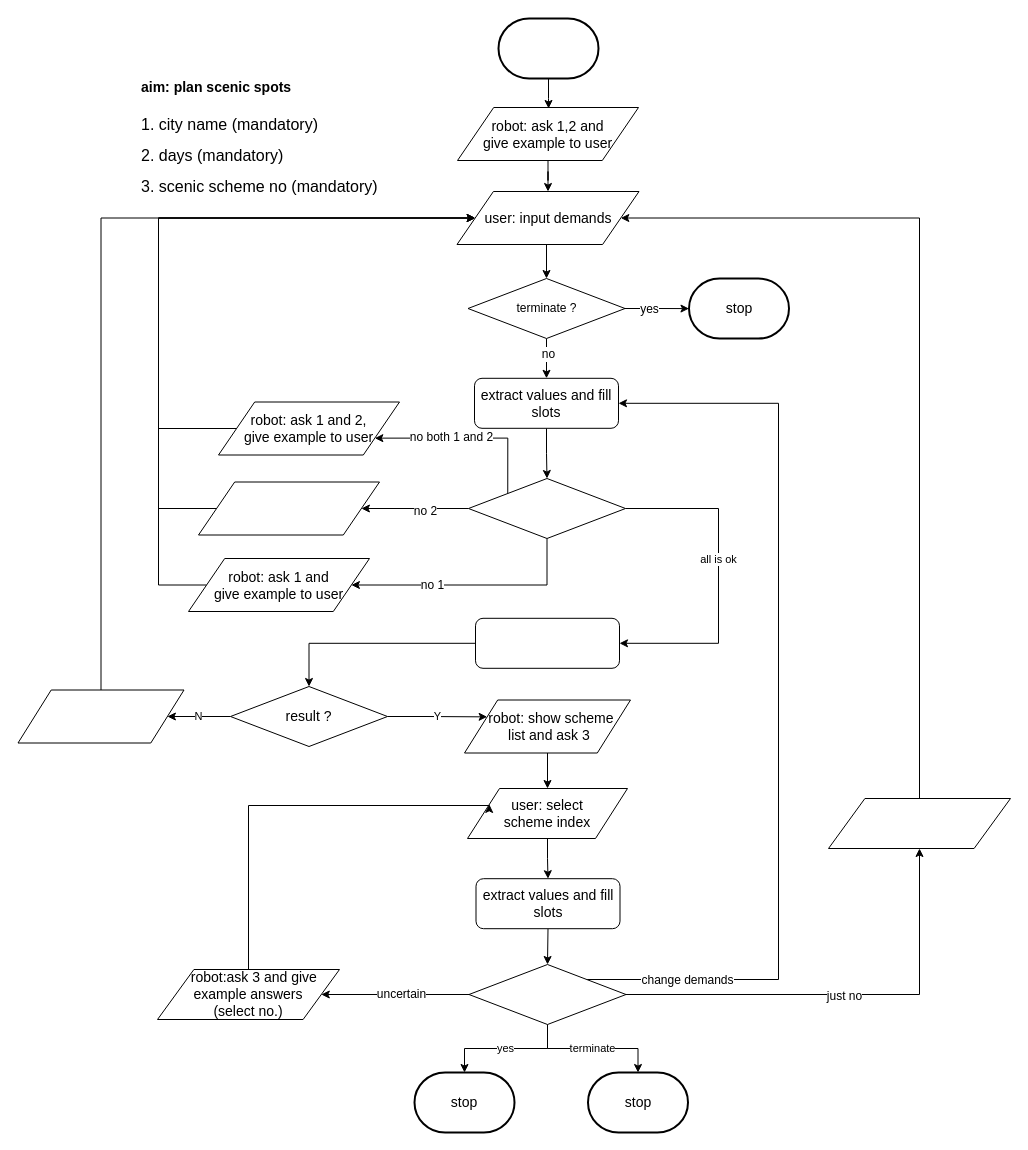
The diagram is 1028 pixels wide and 1150 high, and some of its shapes have lost their labels. The box of each missing label's shape, as (x1, y1, x2, y2) in pixels:
robot: ask 2 and give example to user: (198, 481, 380, 535)
robot: show current slot values and ask new demands: (17, 689, 184, 743)
robot:ask 3 and give example answers (select index): (828, 798, 1010, 848)
search scenic scheme by 1 and 2: (474, 617, 620, 668)
slot 1, 2?: (468, 478, 626, 538)
slot 3?: (468, 964, 626, 1024)
start: (497, 17, 599, 79)
